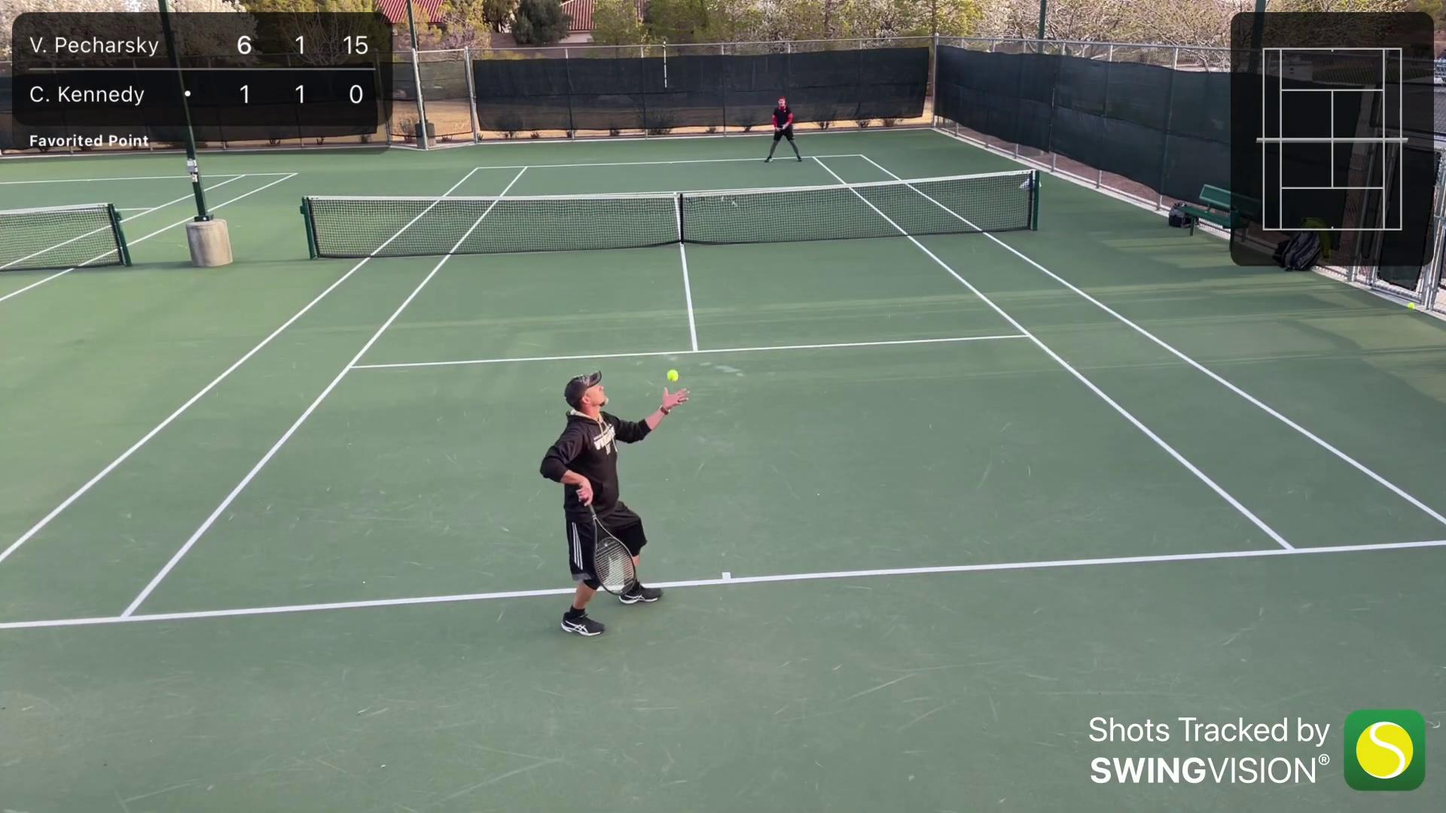ball: (666, 366, 681, 384)
